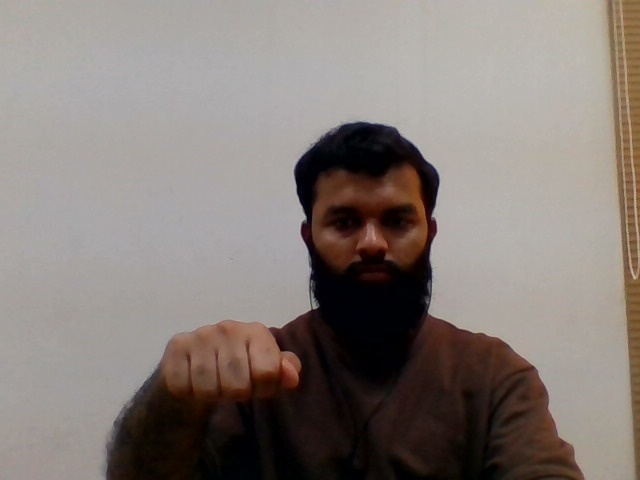Yes: (145, 307, 321, 414)
